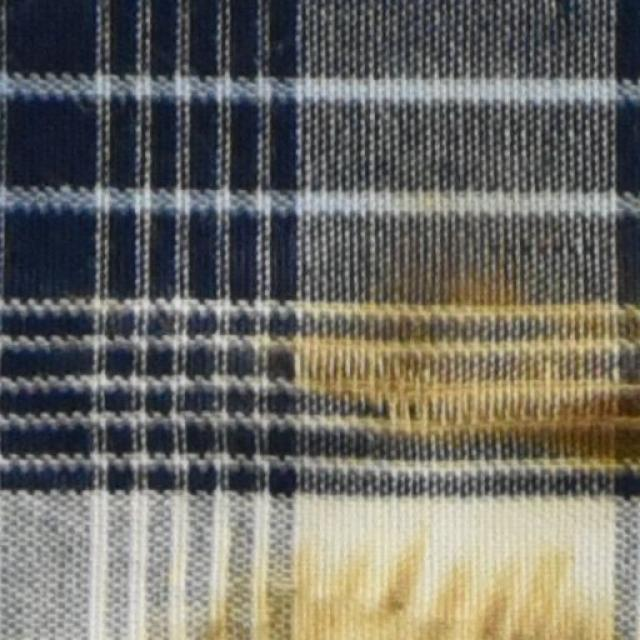Stain: (291, 240, 639, 491), (212, 539, 614, 640)
